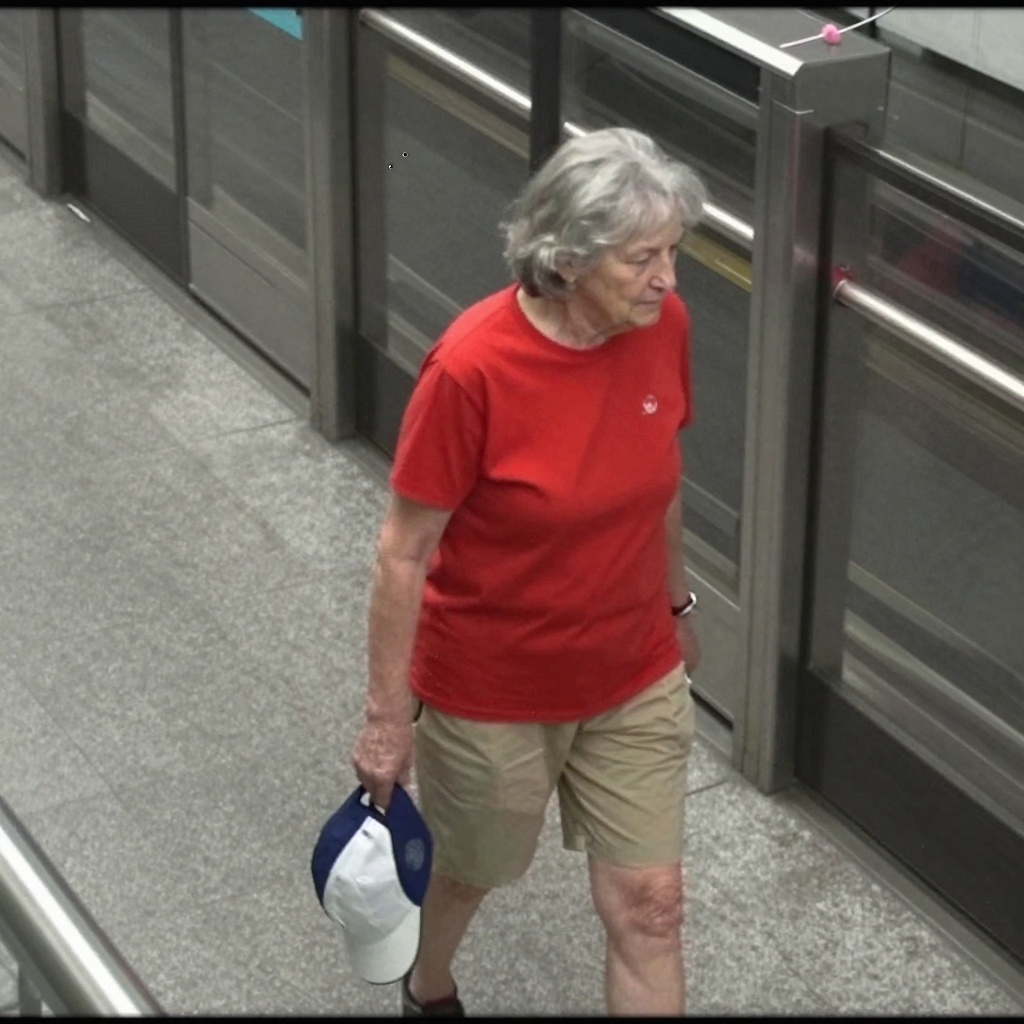Normal activity: (350, 124, 708, 1002)
